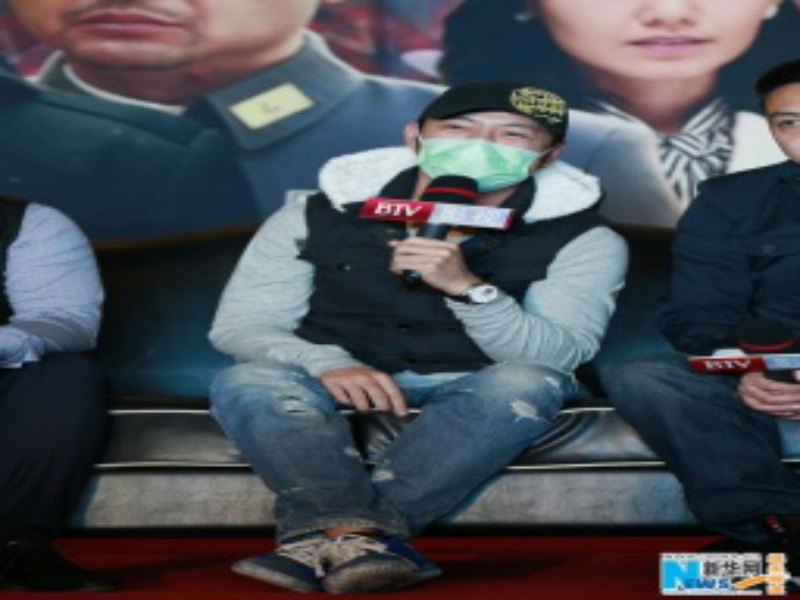ManaoArotava: (415, 69, 544, 217)
